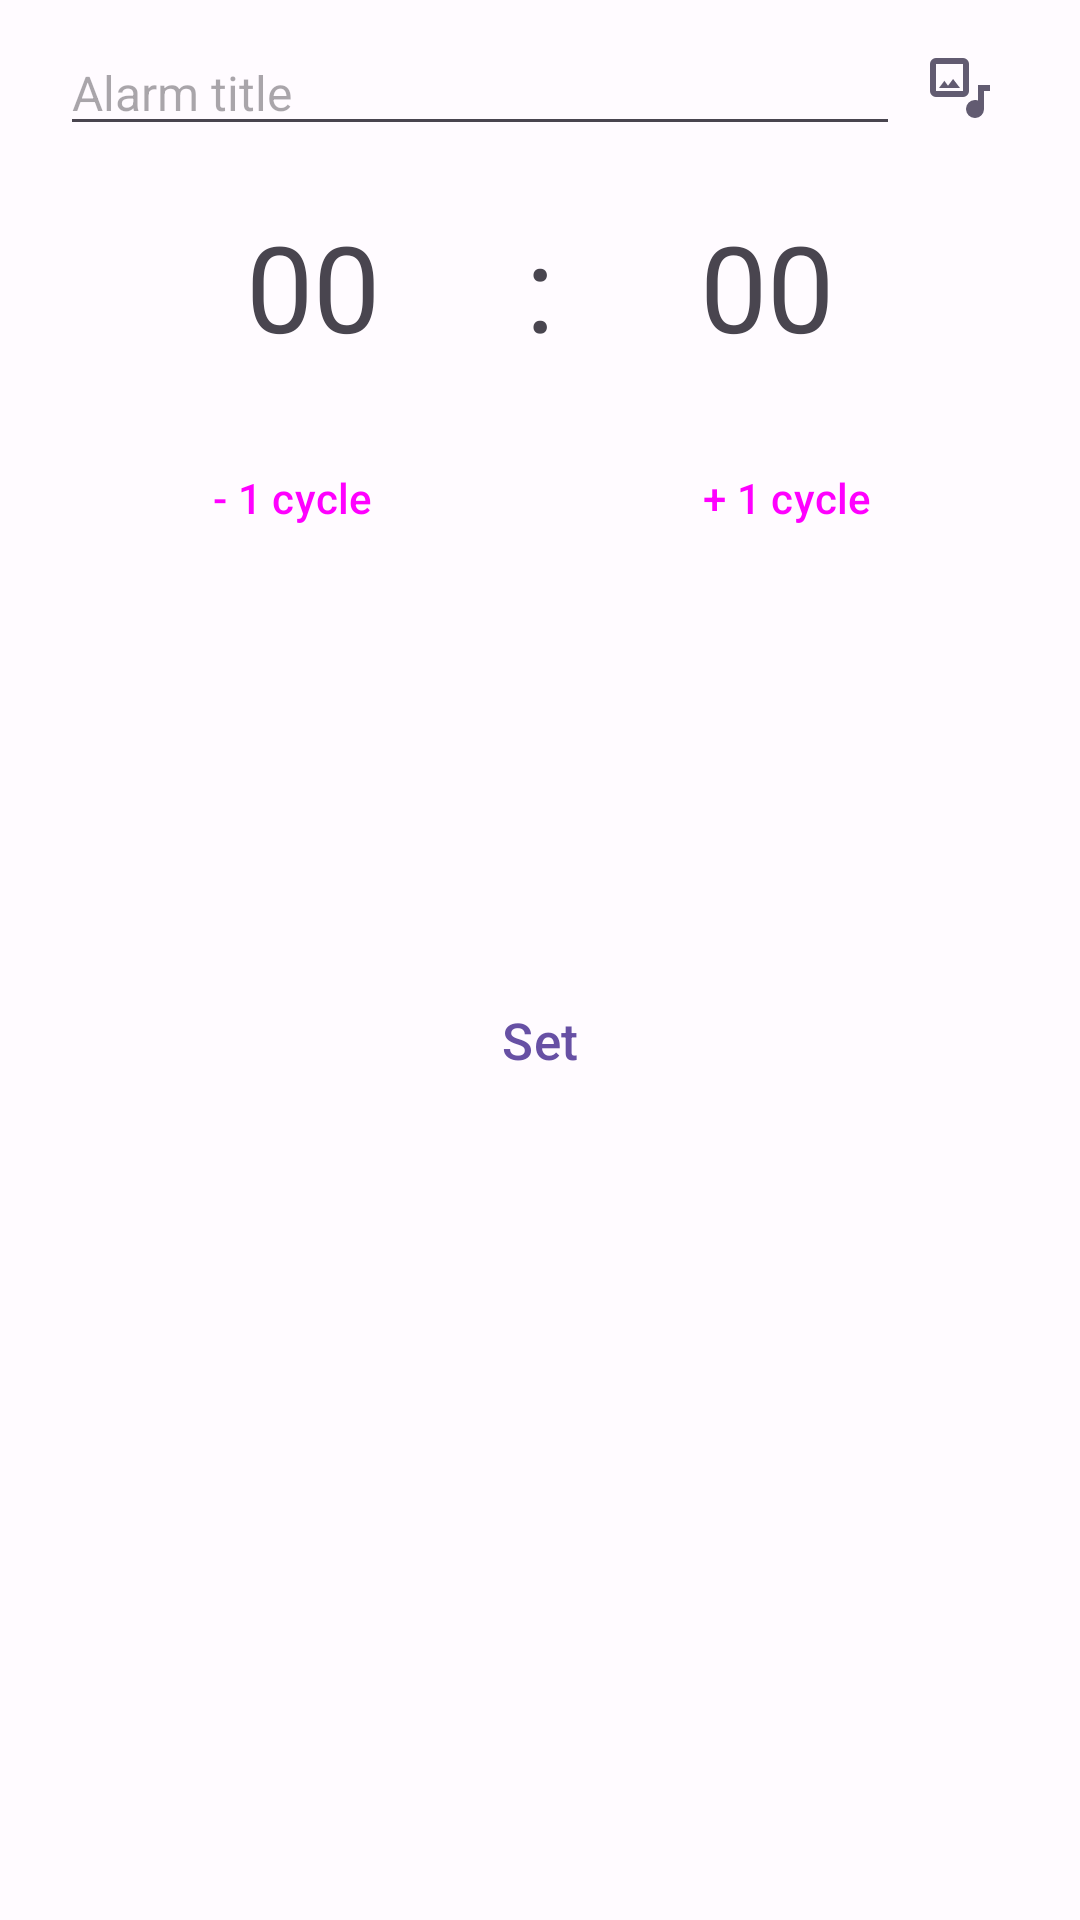

Icon bounding boxes for this 1080w x 1920h phone screenshot, format box(x1, y1, x2, y2):
stock media: box(930, 58, 990, 118)
